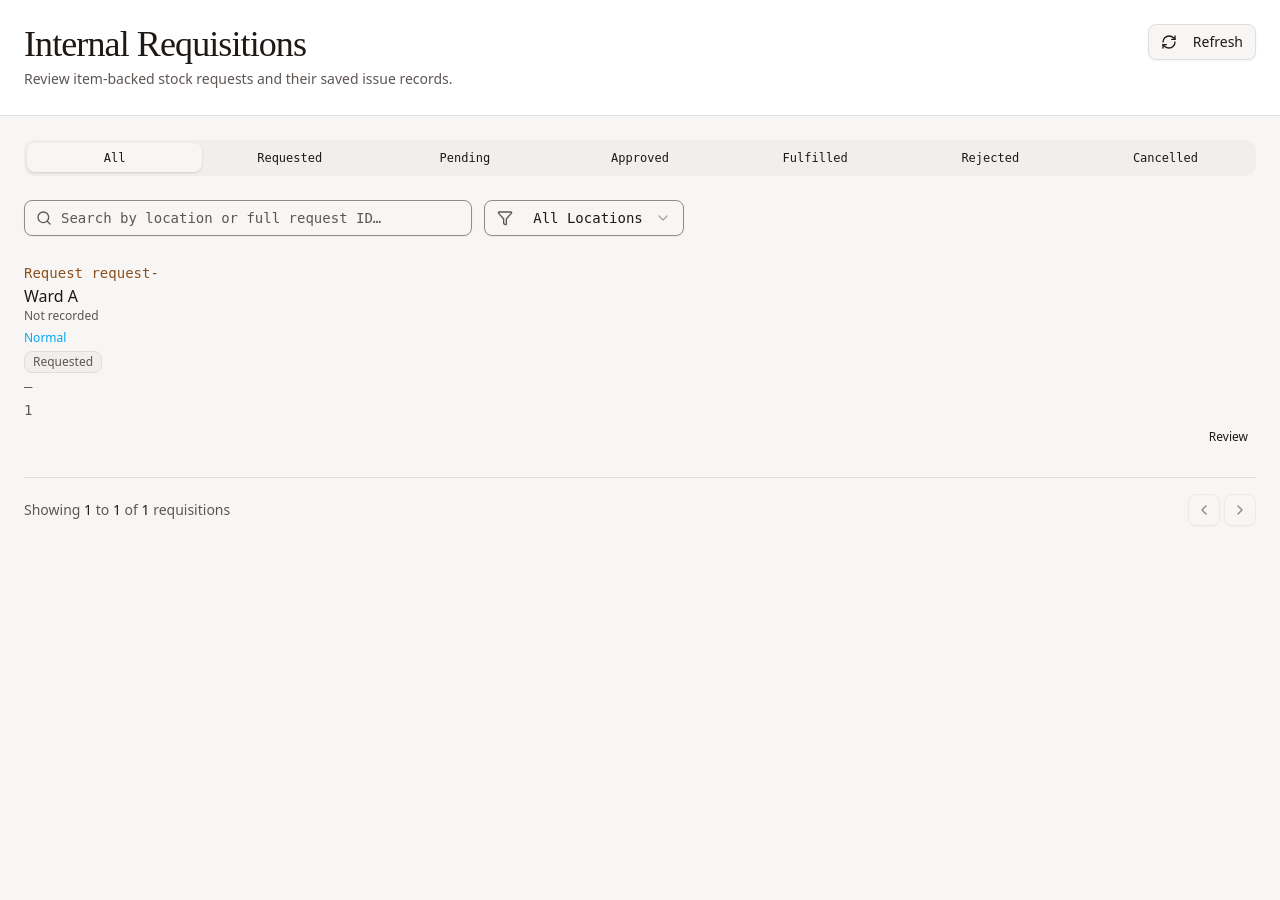
Scenario: standing orders through the active generated-client pages › does not expose writes to a read-only actor and keeps actual Rust request status
Expected: the number of tabs "Requested" is 2, [202, 143, 377, 172]; [24, 351, 102, 373]
Click the button "Review": click(1228, 437) [1201, 421, 1256, 453]
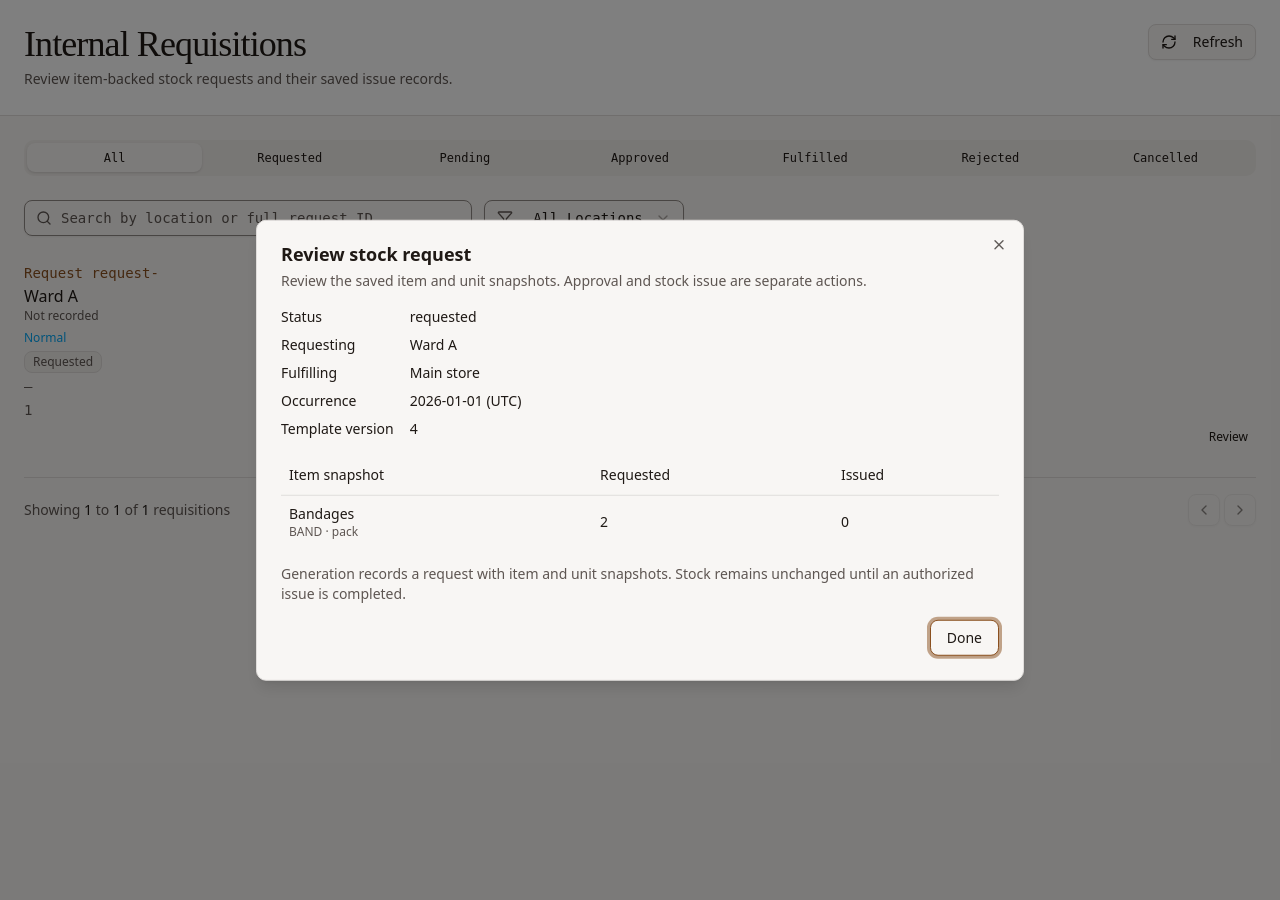
Expected: the text "Bandages" is shown, [289, 503, 354, 522]
